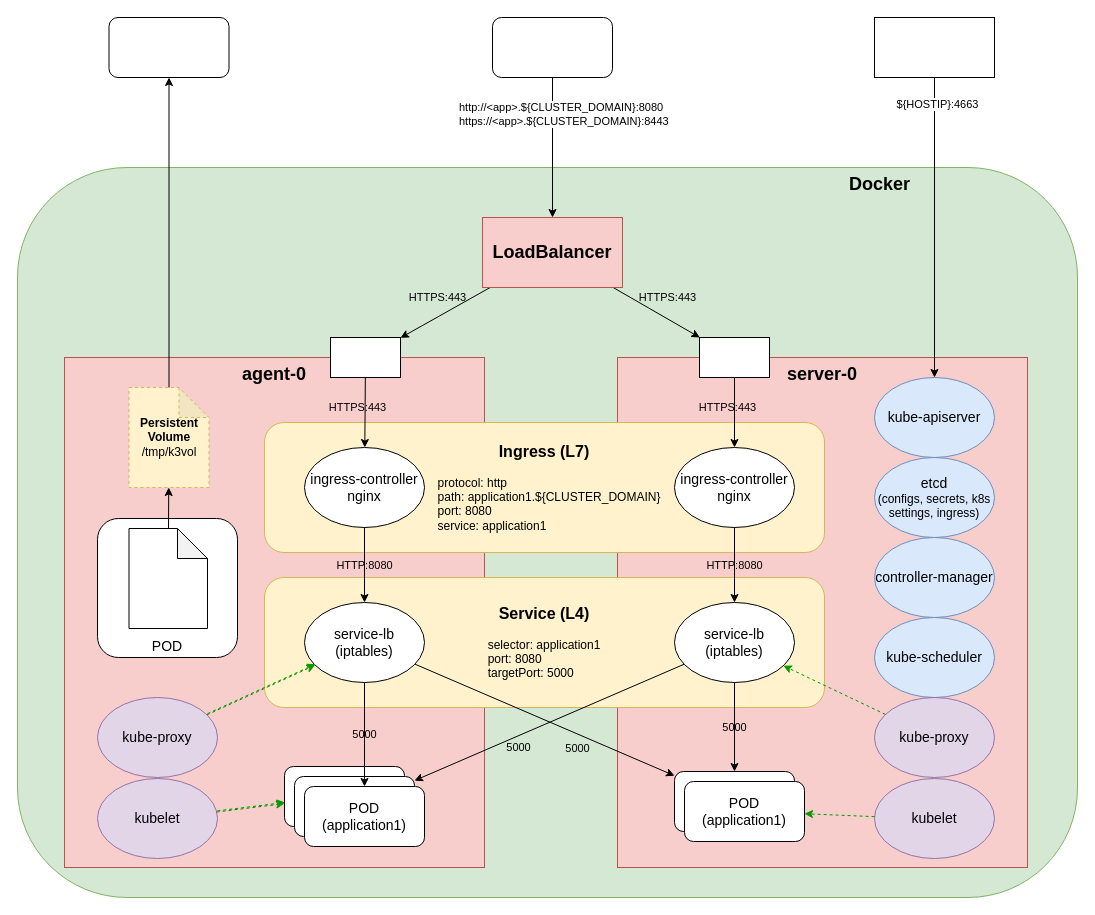
The diagram is 1095 pixels wide and 915 high, and some of its shapes have lost their labels. The centre of each missing label's shape, as x and y in pixels:
ClusterIP1: point (365, 357)
ClusterIP2: point (734, 357)
external client: point (552, 47)
kubectl: point (934, 47)
Local Path Provisioner $(pwd)//k3dvol: point (168, 47)
Persistent Volume Claim: point (168, 578)
